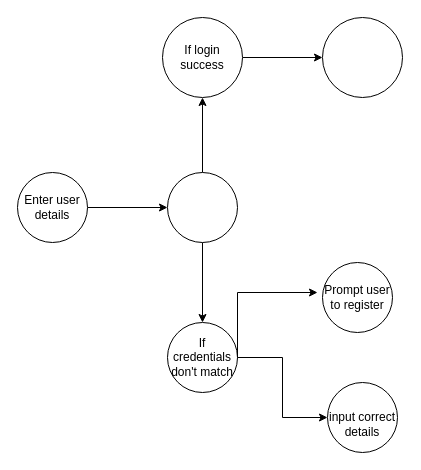
Some shapes in this 421 by 470 pixel diagram are drawn without their labels. The shapes that lost their labels are listed below. From the top down, each one's centre as x and y in pixels, then its label:
the point at 362,57: Show userDashboard
the point at 202,207: Start Session
